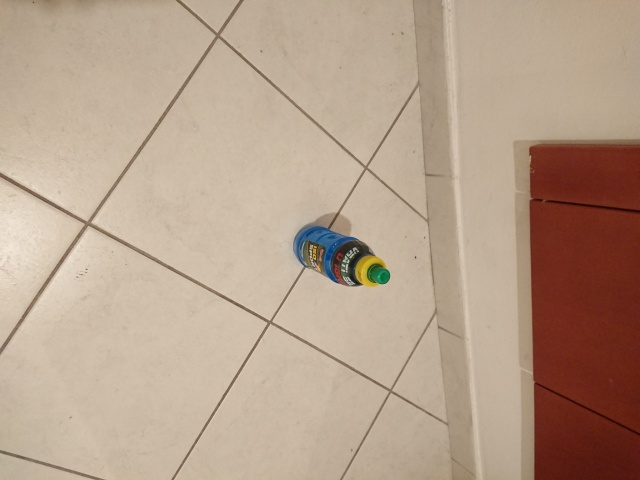Vindi Iso Sport Forest Strawberries 500mL: (291, 223, 392, 289)
